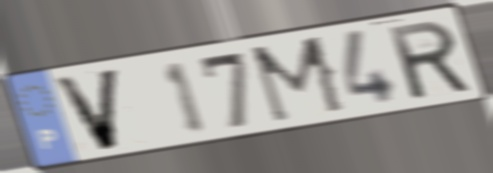1: (161, 57, 207, 138)
4: (343, 27, 399, 111)
7: (195, 52, 254, 131)
M: (246, 32, 351, 127)
R: (383, 17, 476, 103)
V: (49, 65, 124, 154)
